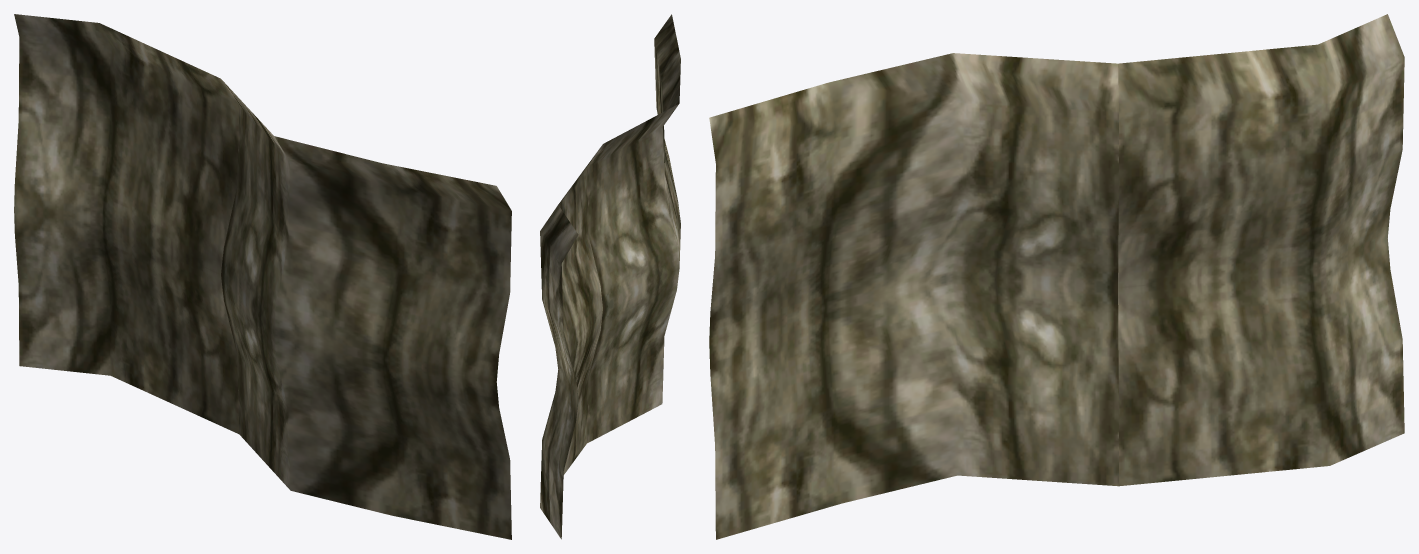
The model's file is CB_NEWPLAYSURFACE_CB_PLAYSURFACE40.fbx.
3 views of the same model, side by side, from view 1: azimuth 30°, elevation 25°; view 2: azimuth 150°, elevation 25°; view 3: azimuth 270°, elevation 25° (orthographic). The views are drawn at different scales.
Parts seen in each view (by area): view 1: CB_NEWPLAYSURFACE_CB_PLAYSURFACE40; view 2: CB_NEWPLAYSURFACE_CB_PLAYSURFACE40; view 3: CB_NEWPLAYSURFACE_CB_PLAYSURFACE40.
Part boxes in pixels (x1,y1,x2,y2): CB_NEWPLAYSURFACE_CB_PLAYSURFACE40: (14,14,511,539); CB_NEWPLAYSURFACE_CB_PLAYSURFACE40: (540,14,680,539); CB_NEWPLAYSURFACE_CB_PLAYSURFACE40: (709,14,1404,539).
Bounding box in the file's own units: 43530 × 73541 × 112443.
1 material, 1 textured.
